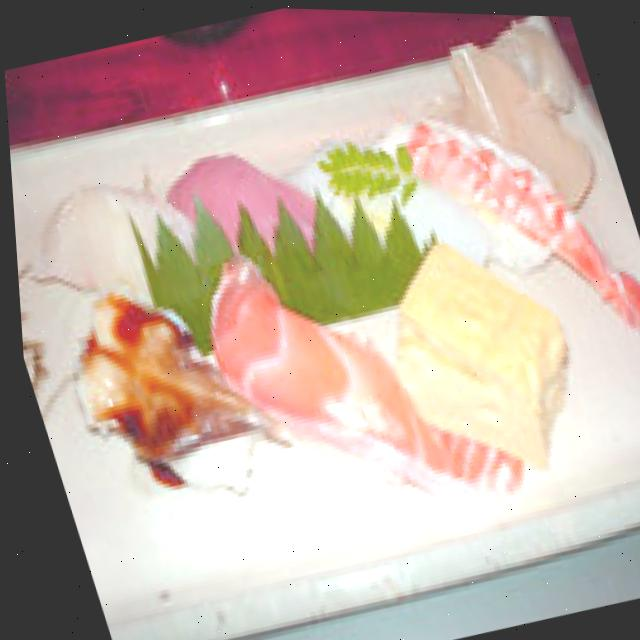寿司卷物: (1, 14, 640, 613)
